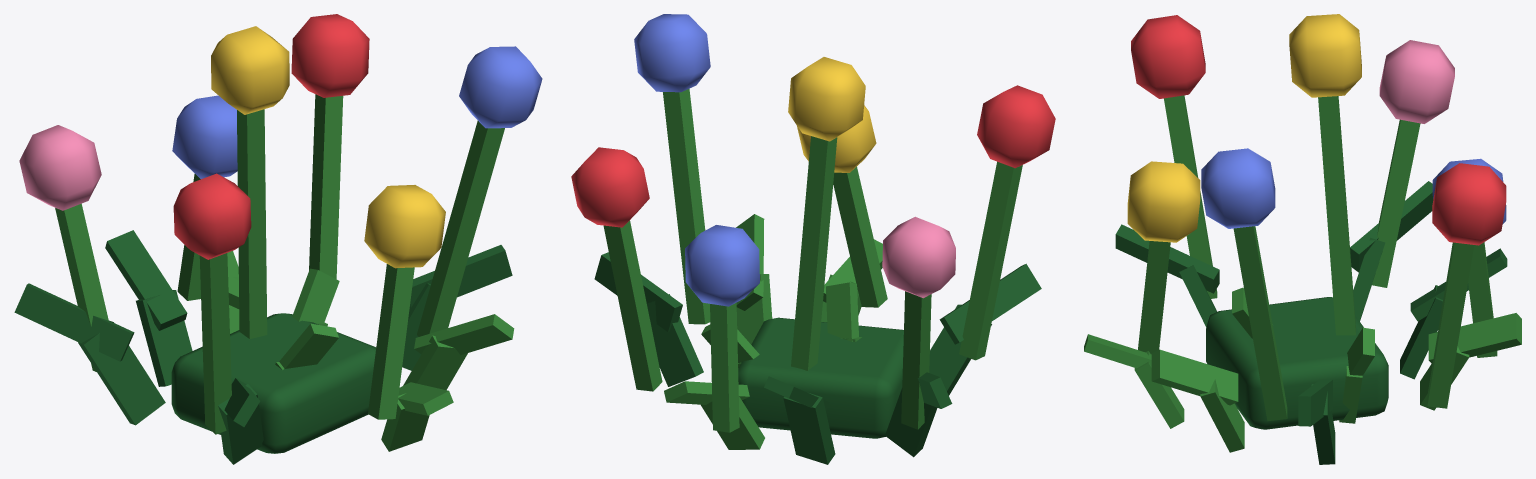
File: Nature__flowers.glb
3 views of the same model, side by side, from view 1: azimuth 30°, elevation 25°; view 2: azimuth 150°, elevation 25°; view 3: azimuth 270°, elevation 25° (orthographic). The views are drawn at different scales.
Parts seen in each view (by area): view 1: flowers_mesh; view 2: flowers_mesh; view 3: flowers_mesh.
Boxes of the visible parts, <box> form: flowers_mesh: <box>14,14,542,464</box>; flowers_mesh: <box>571,14,1055,464</box>; flowers_mesh: <box>1084,14,1521,464</box>.
Size of the model in its own units: 0.4929 by 0.4062 by 0.438.
